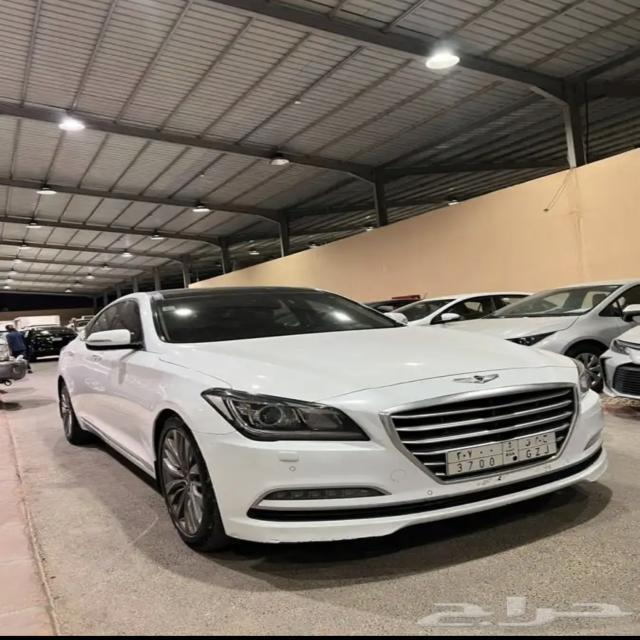license_plate: (446, 429, 556, 476)
